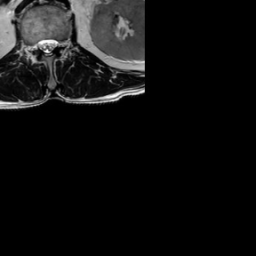CCS_normal: (44, 29, 50, 60)
LFS_normal: (57, 32, 63, 53)
LLS_normal: (50, 32, 57, 54)
RFS_normal: (30, 35, 37, 56)
RLS_normal: (37, 32, 44, 54)
